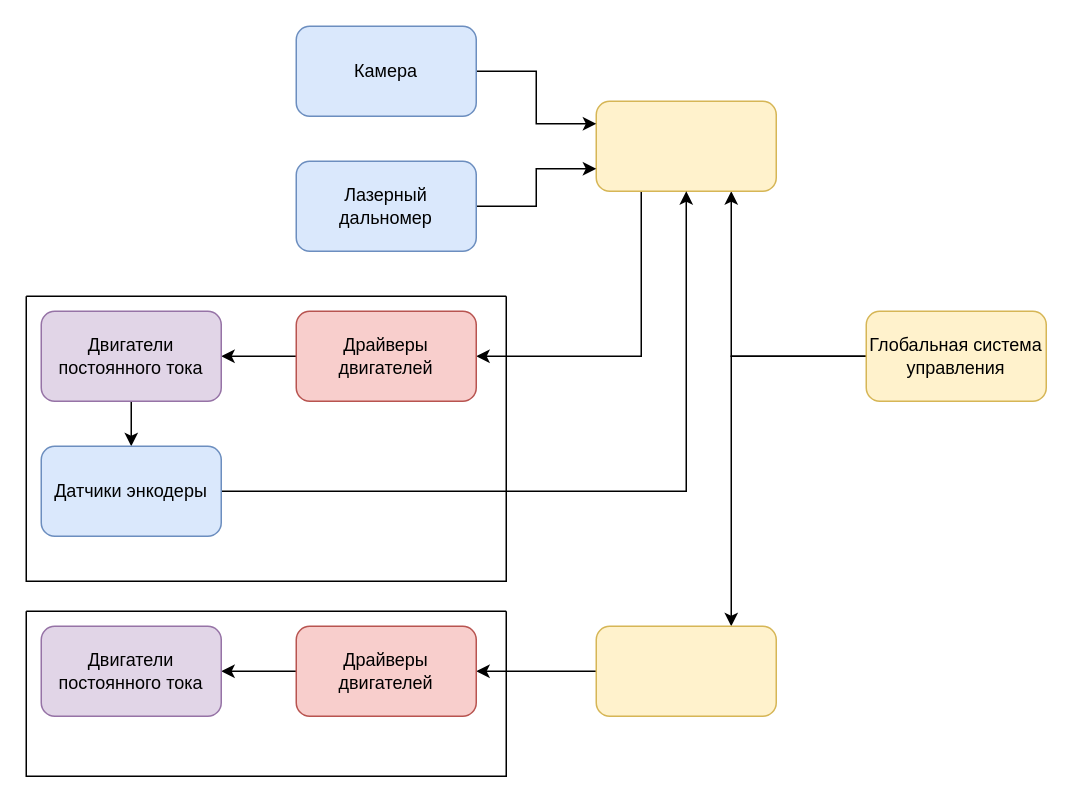
The diagram is 1073 pixels wide and 803 high, and some of its shapes have lost their labels. Each missing label, with the box of its shape:
Привод манипулятора: (25, 295, 506, 581)
Привод продольного перемещения: (25, 610, 506, 776)
Система управления манипулятором: (595, 100, 776, 191)
Система управления передвижением: (595, 625, 776, 716)
